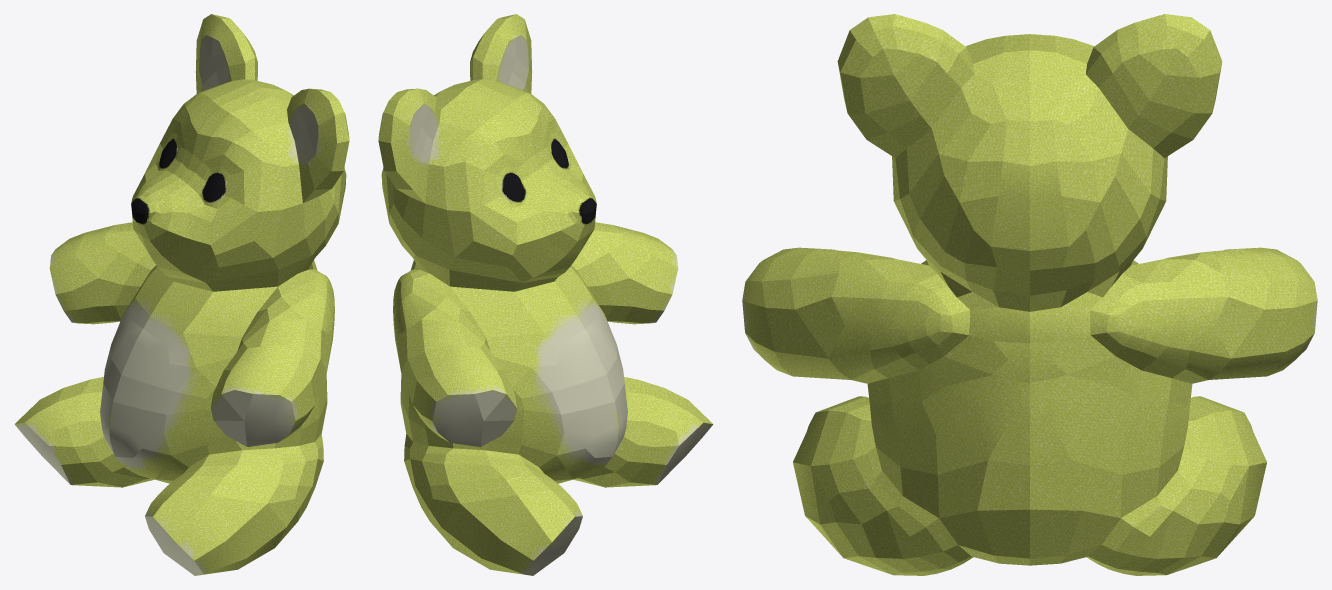
The model's file is SM_Yellow_Teddy_Bear.fbx.
3 views of the same model, side by side, from view 1: azimuth 30°, elevation 25°; view 2: azimuth 150°, elevation 25°; view 3: azimuth 270°, elevation 25° (orthographic). The views are drawn at different scales.
Visible parts, largest first — view 1: Bear_GEO; view 2: Bear_GEO; view 3: Bear_GEO.
Part boxes in pixels (x1=…): Bear_GEO: x1=14, y1=14, x2=349, y2=575; Bear_GEO: x1=378, y1=14, x2=713, y2=575; Bear_GEO: x1=742, y1=14, x2=1317, y2=575.
Bounding box in the file's own units: 10.16 × 15.21 × 17.67.
Materials: 1 (1 with a texture image).
